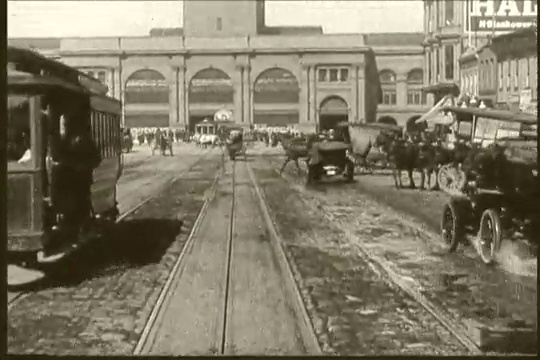car: (430, 134, 540, 266), (307, 141, 355, 191)
carriage: (372, 123, 469, 200), (215, 127, 250, 166)
horse: (266, 123, 330, 178)
trolley: (187, 117, 217, 149)
